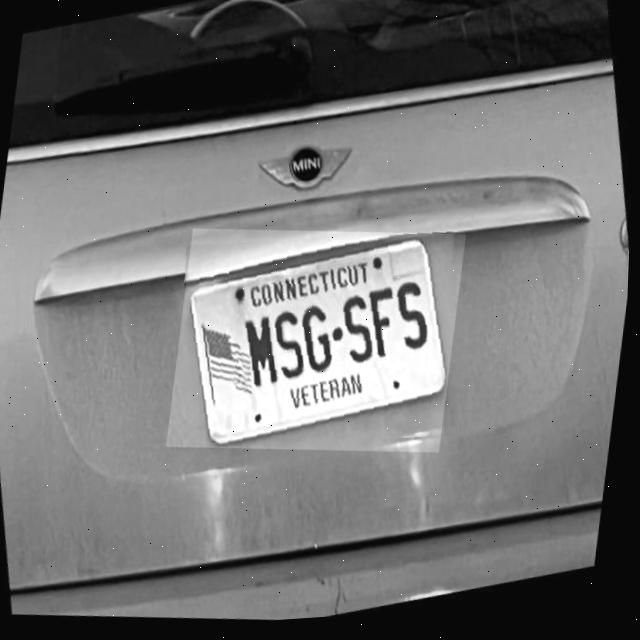LicensePlate: (188, 239, 450, 451)
